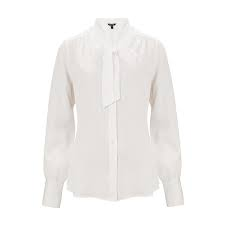S_blouse: (38, 16, 189, 213)
